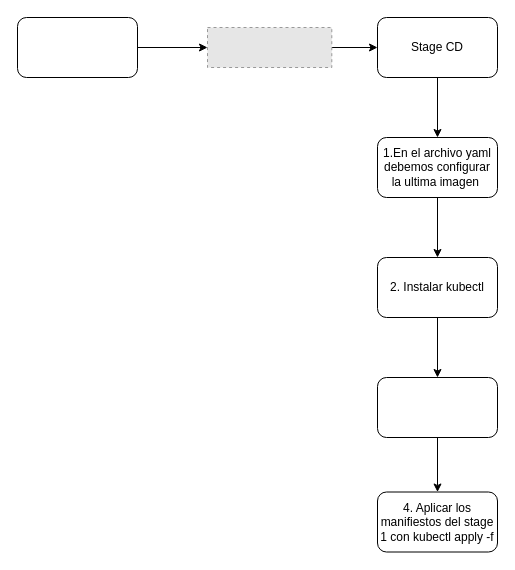
Image size: 515x570. Some labels were removed from this diagram. Grey dashed boxes stand in for pictures. The shapes that lost their labels are listed below. From the top down, each one's box as (x1, y1, x2, y2) in pixels, then its label:
(16, 16, 138, 78): Docker hub
(376, 376, 498, 438): 3. Conectarnos al provider
